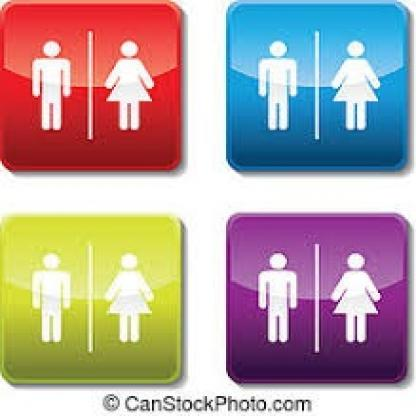toilet: (24, 237, 160, 358), (249, 24, 386, 143), (253, 236, 384, 355), (23, 30, 160, 141)
